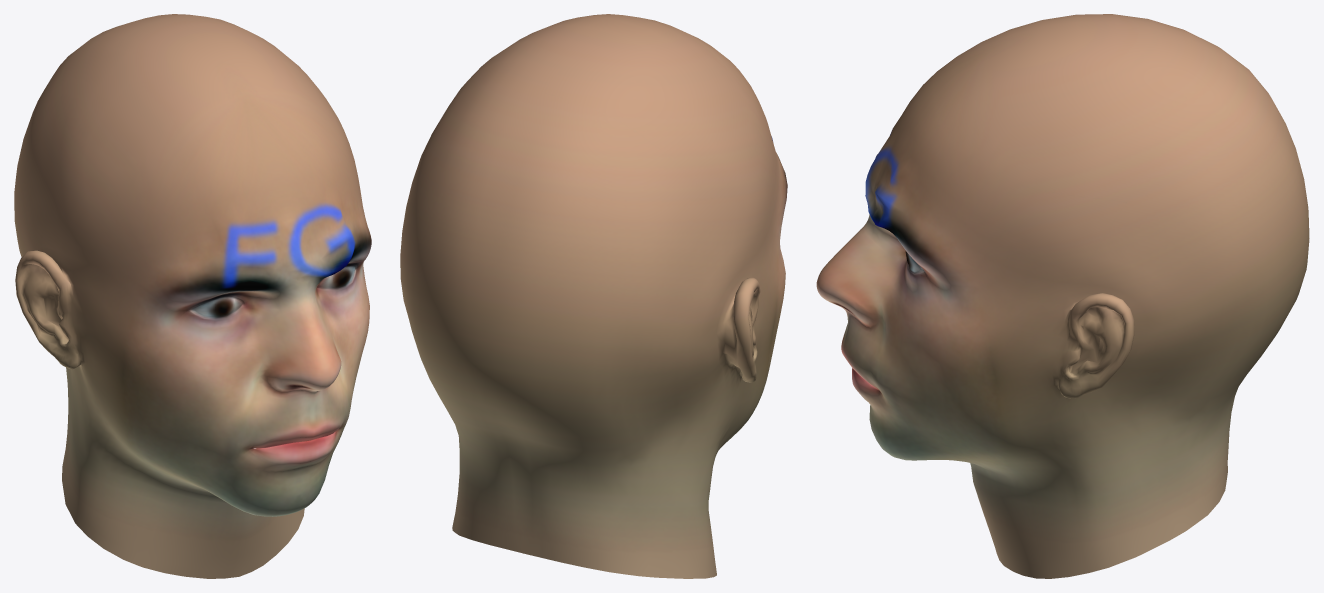
The model's file is random_anyrace_anysex_16.obj.
The picture shows the model from 3 angles, left to right: view 1: azimuth 30°, elevation 25°; view 2: azimuth 150°, elevation 25°; view 3: azimuth 270°, elevation 25°; orthographic projection. The views are drawn at different scales.
Visible parts, largest first — view 1: HeadHires; view 2: HeadHires; view 3: HeadHires.
Boxes of the visible parts, x1,y1,x2,y2 form: HeadHires: [14, 14, 371, 578]; HeadHires: [400, 14, 787, 578]; HeadHires: [816, 14, 1309, 578].
Bounding box in the file's own units: 187 × 283 × 240.
Materials: 1 (1 with a texture image).
